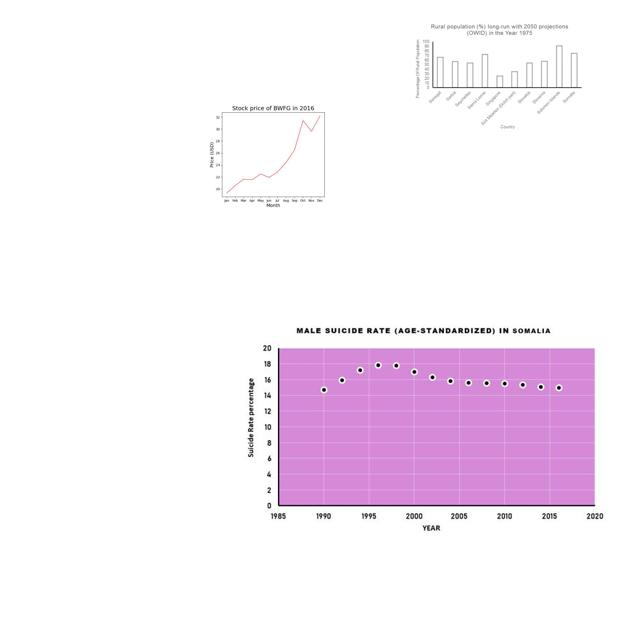Graph: (246, 325, 607, 533), (413, 22, 584, 131), (198, 99, 345, 209)
